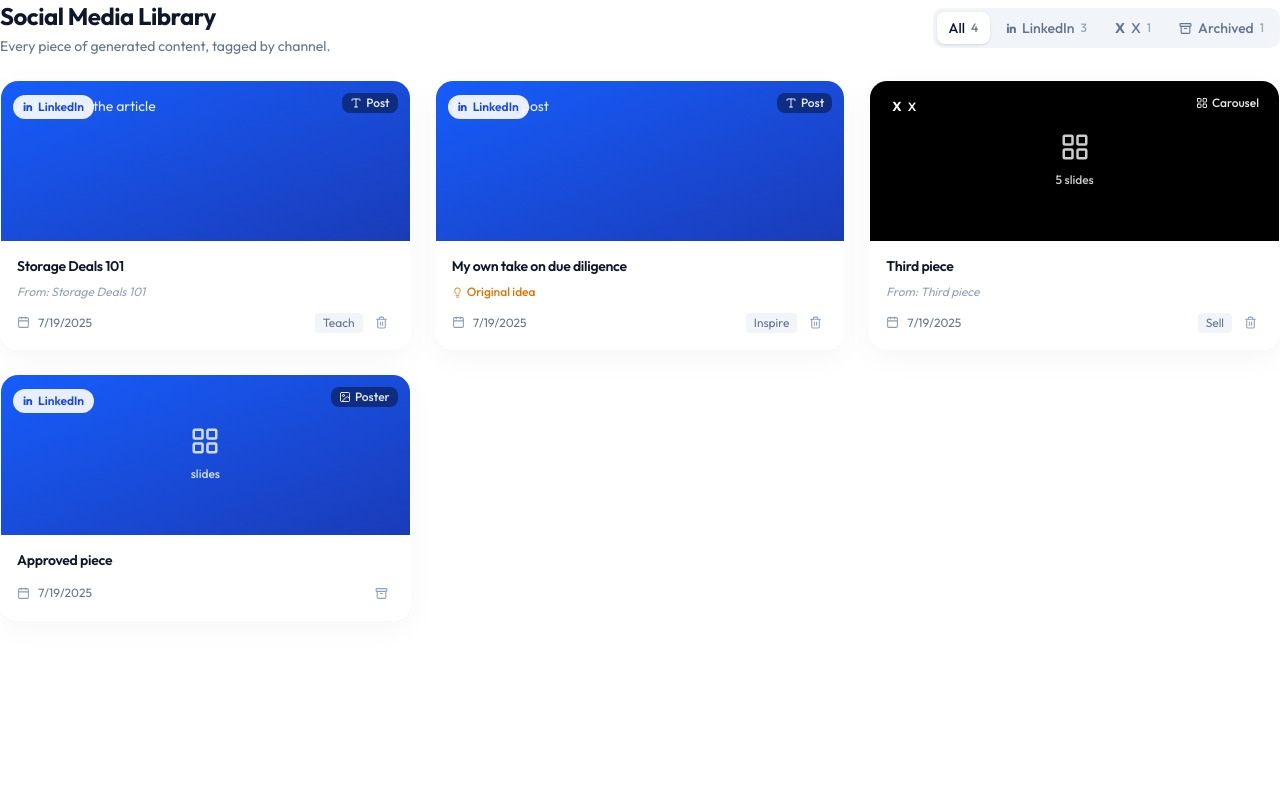
Test case: SocialLibrary › hard-deletes a draft only after confirming in the dialog
Expected: the heading "My own take on due diligence" is shown, [452,257,627,275]
// First click only opens the dialog — nothing is sent yet.
Step 1. Click the button named "Delete" next to "inspire" → (816, 323), box [803,312,828,333]
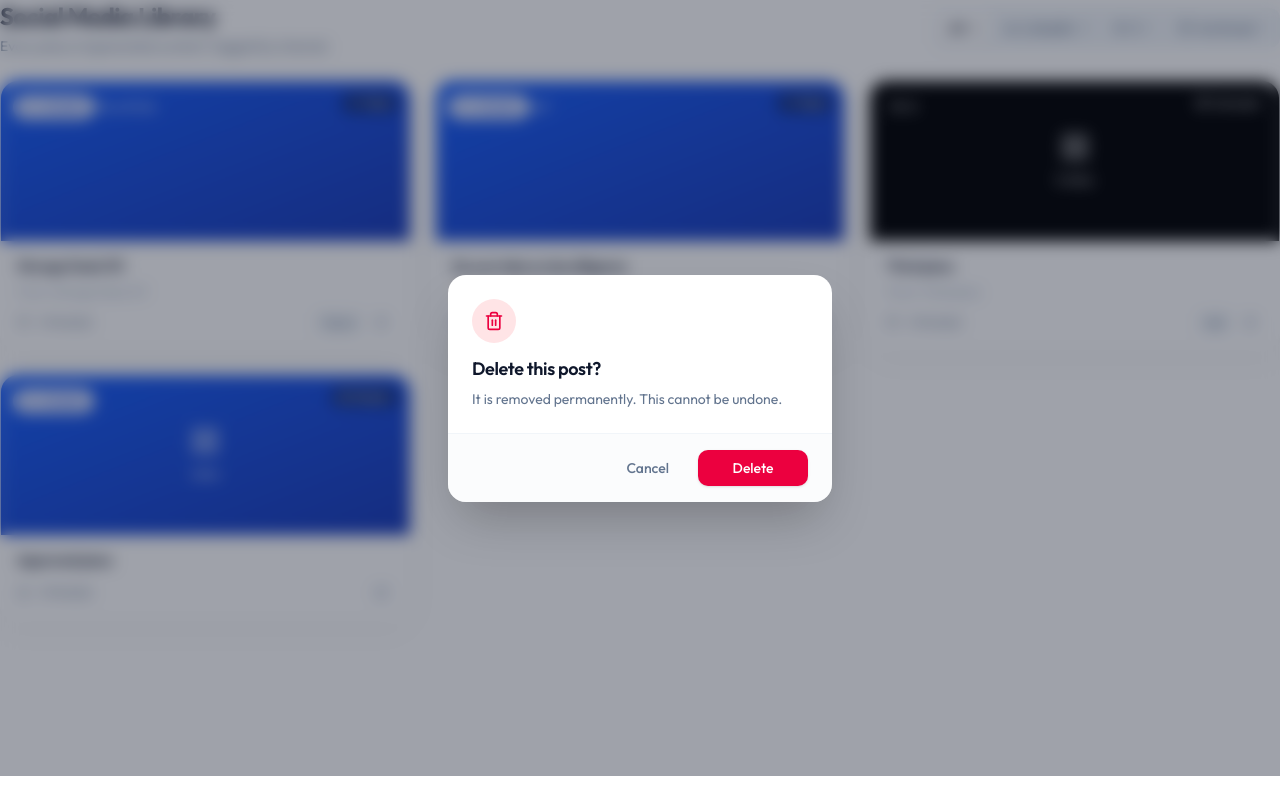
Step 2. Click the button "Delete" → (753, 468), box [698,450,808,486]
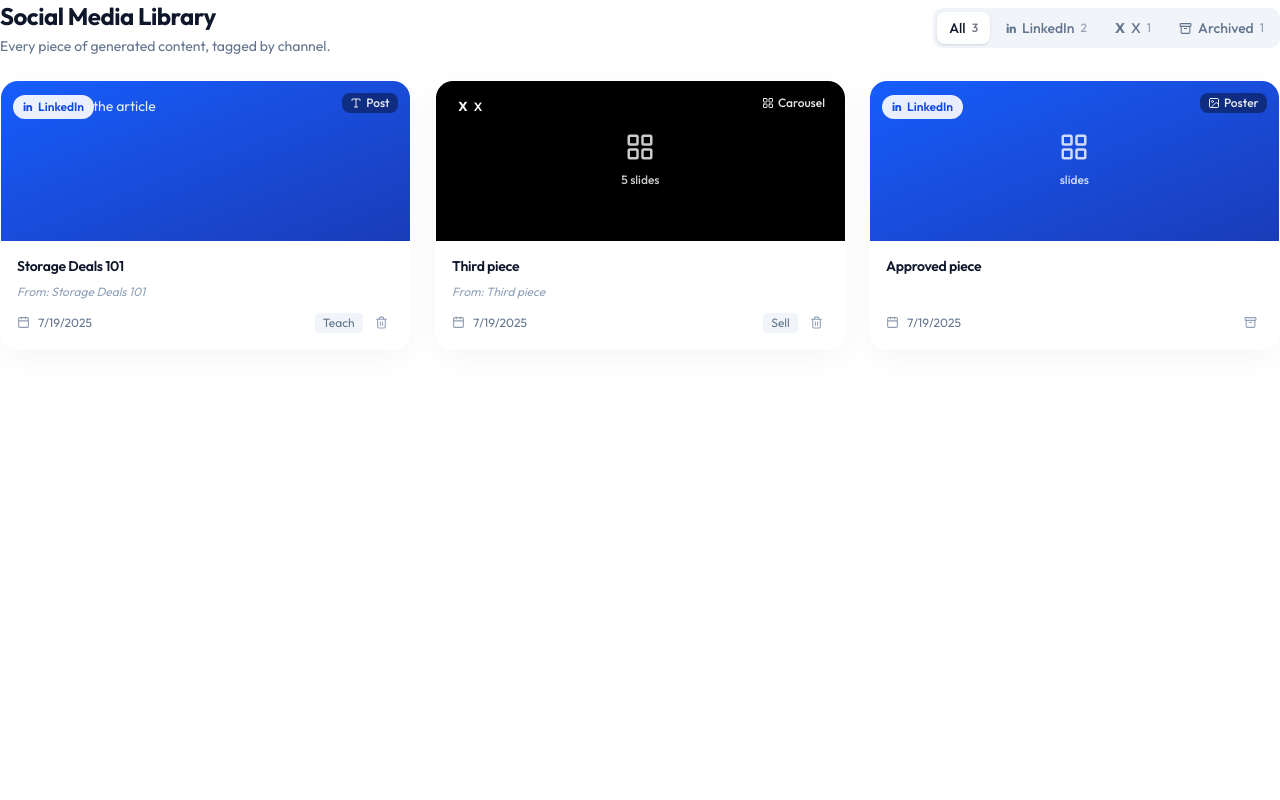
Result: the heading "My own take on due diligence" is gone
